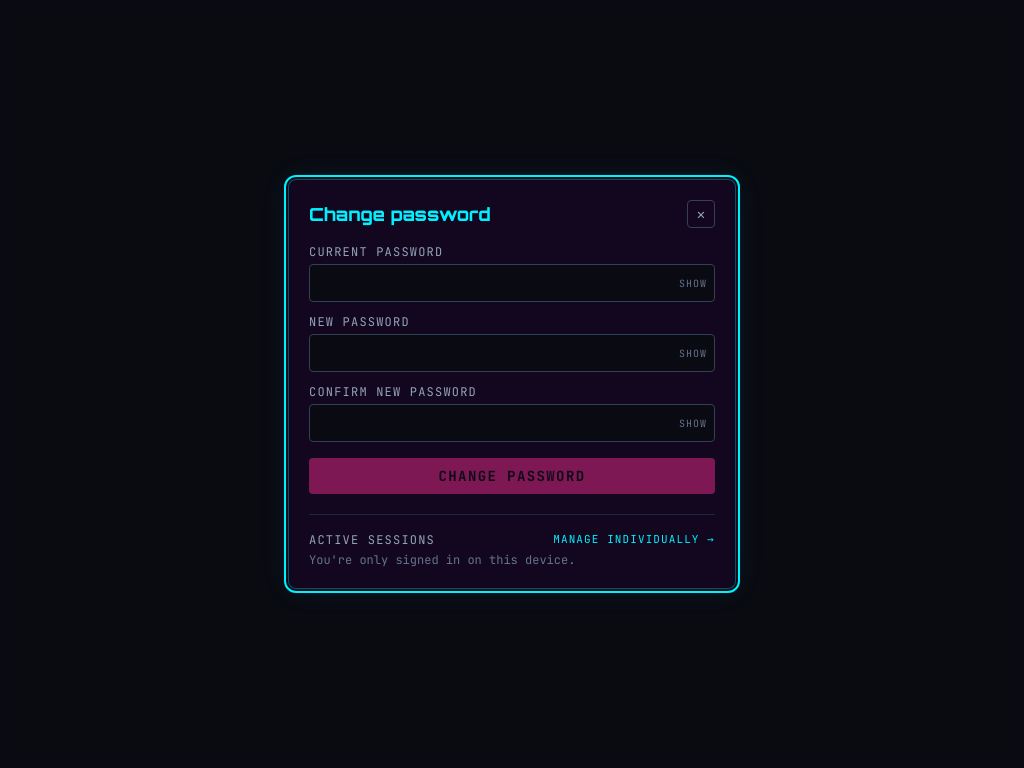
Test: ChangePasswordModal › shows the server's specific reason on a 400 weak-password rejection, not the generic failure text
Type "oldpass1" into the password field labelled "Current password".
click(512, 283); type("oldpass1")  # box [309, 264, 715, 302]
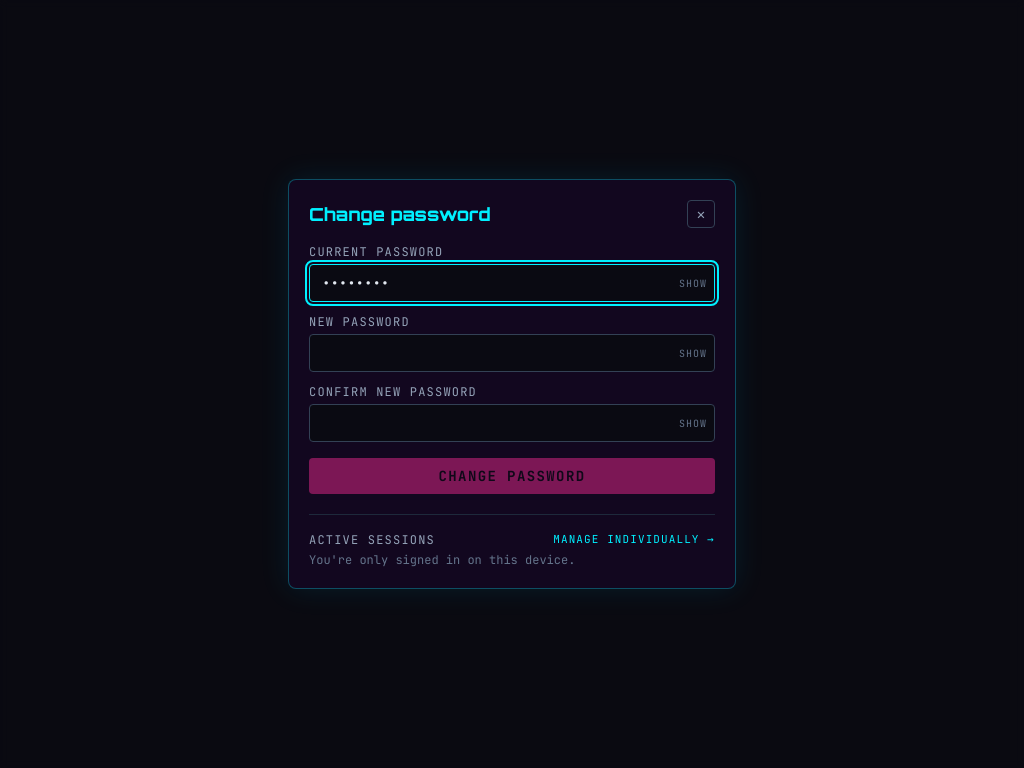
Type "password1" into the password field labelled "New password".
click(512, 353); type("password1")  # box [309, 334, 715, 372]
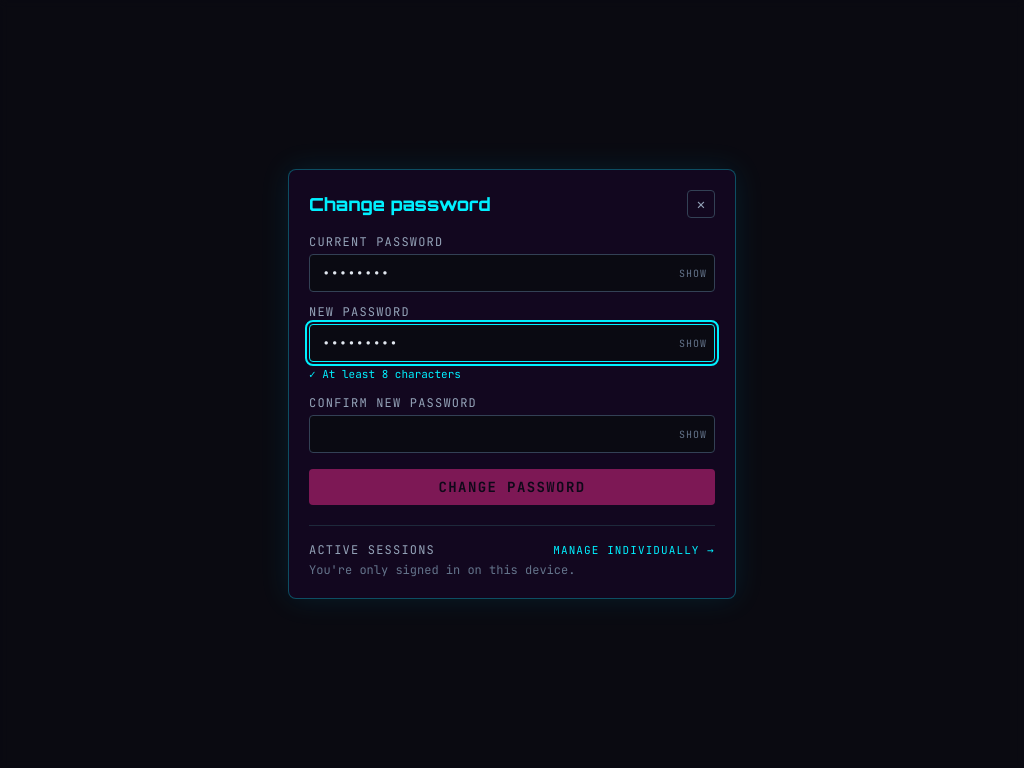
Type "password1" into the password field labelled "Confirm new password".
click(512, 434); type("password1")  # box [309, 414, 715, 452]
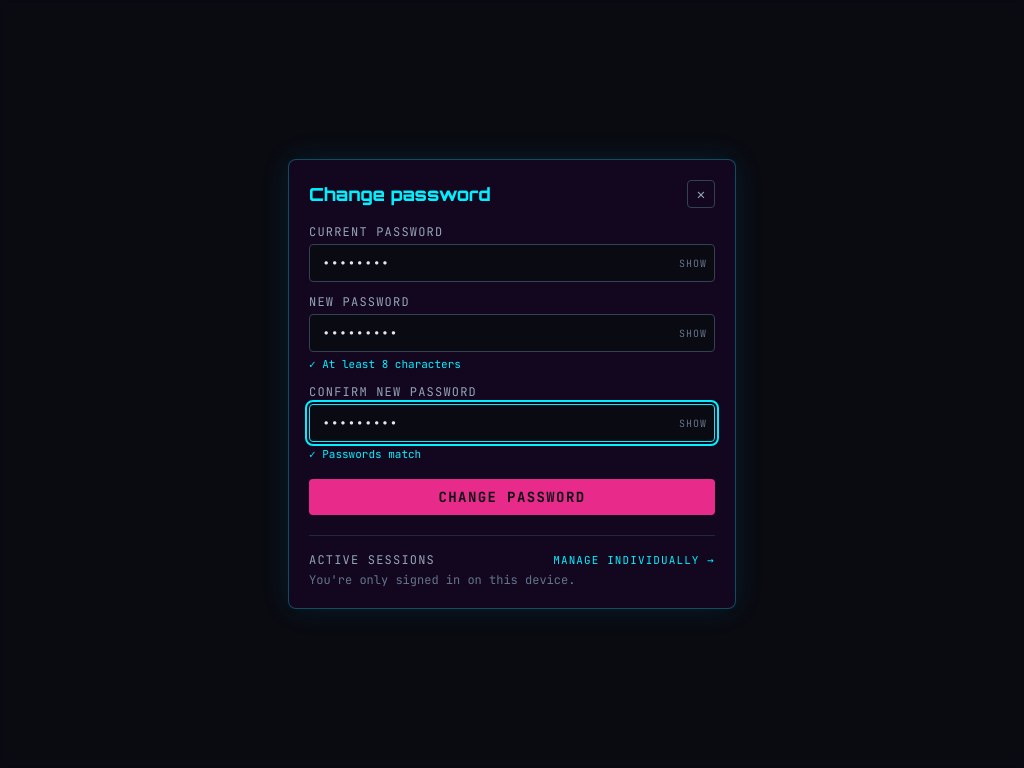
Click the button "Change password".
click(512, 497)  # box [309, 479, 715, 515]
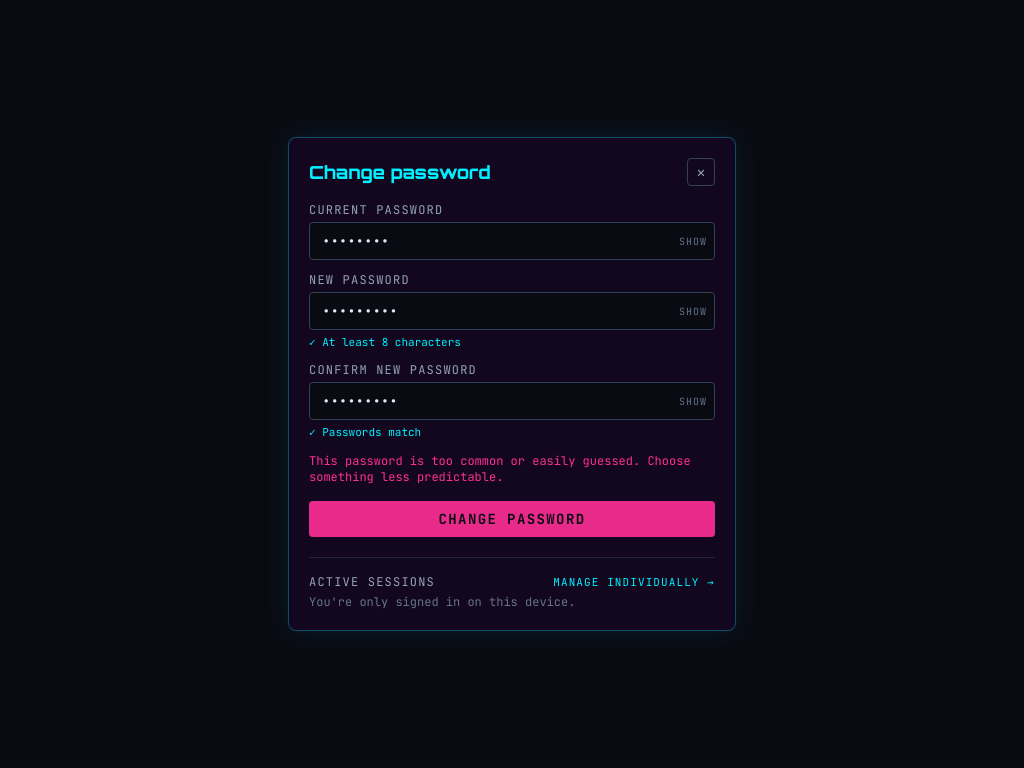
expect the text "This password is too common or easily guessed. Choose something less predictable." is shown: met, box [309, 453, 691, 485]
